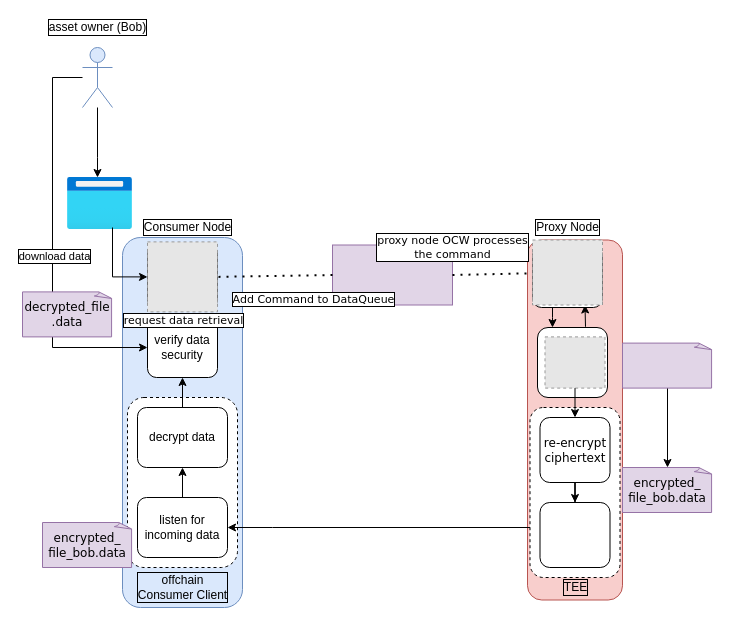
Image size: 730x625. Some labels were removed from this diagram. Grey dashed boxes stand in for pictures. Here are the shapes that lost their labels. From the top down, the centre of each, then its label:
[392,274]: DataQueue
[667,365]: encrypted_ file_alice.data
[574,535]: send to consumer client
